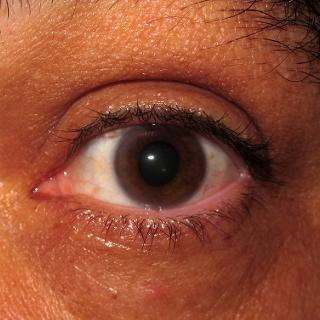pupil: (136, 141, 180, 185)
